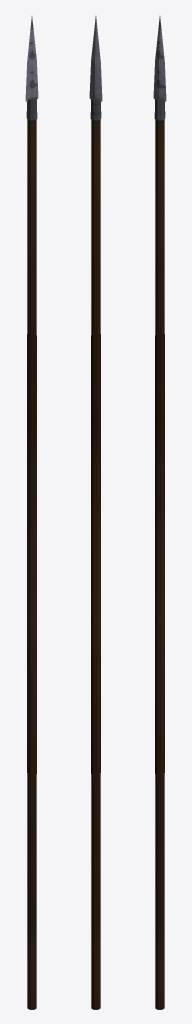
The model's file is w_pike.glb.
3 renders of one model, left to right at view 1: azimuth 30°, elevation 25°; view 2: azimuth 150°, elevation 25°; view 3: azimuth 330°, elevation 25°, orthographic.
Visible parts, largest first — view 1: haft, spearhead, socket; view 2: haft, spearhead, socket; view 3: haft, spearhead, socket.
Part boxes in pixels (left/top/right/bottom): haft: left=27, top=119, right=36, bottom=1009; spearhead: left=25, top=16, right=38, bottom=101; socket: left=26, top=97, right=37, bottom=120; haft: left=91, top=119, right=100, bottom=1009; spearhead: left=89, top=16, right=102, bottom=101; socket: left=90, top=97, right=101, bottom=120; haft: left=155, top=119, right=164, bottom=1009; spearhead: left=153, top=16, right=166, bottom=101; socket: left=154, top=97, right=165, bottom=120.
Bounding box in the file's own units: 0.06 × 4.38 × 0.044.
3 materials, 3 textured.
